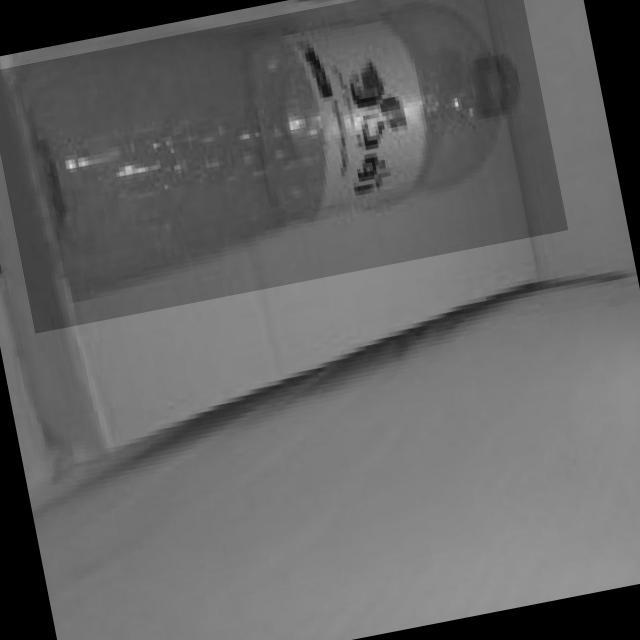good: (0, 0, 567, 334)
